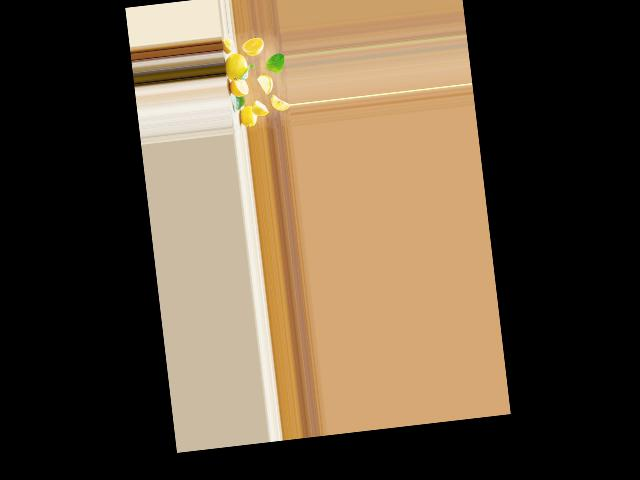lemon: (238, 104, 260, 130)
